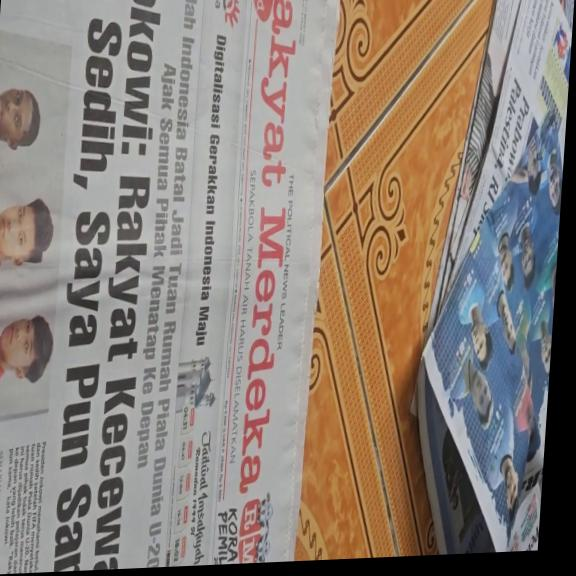Kertas: (0, 0, 323, 567), (433, 0, 575, 319)
